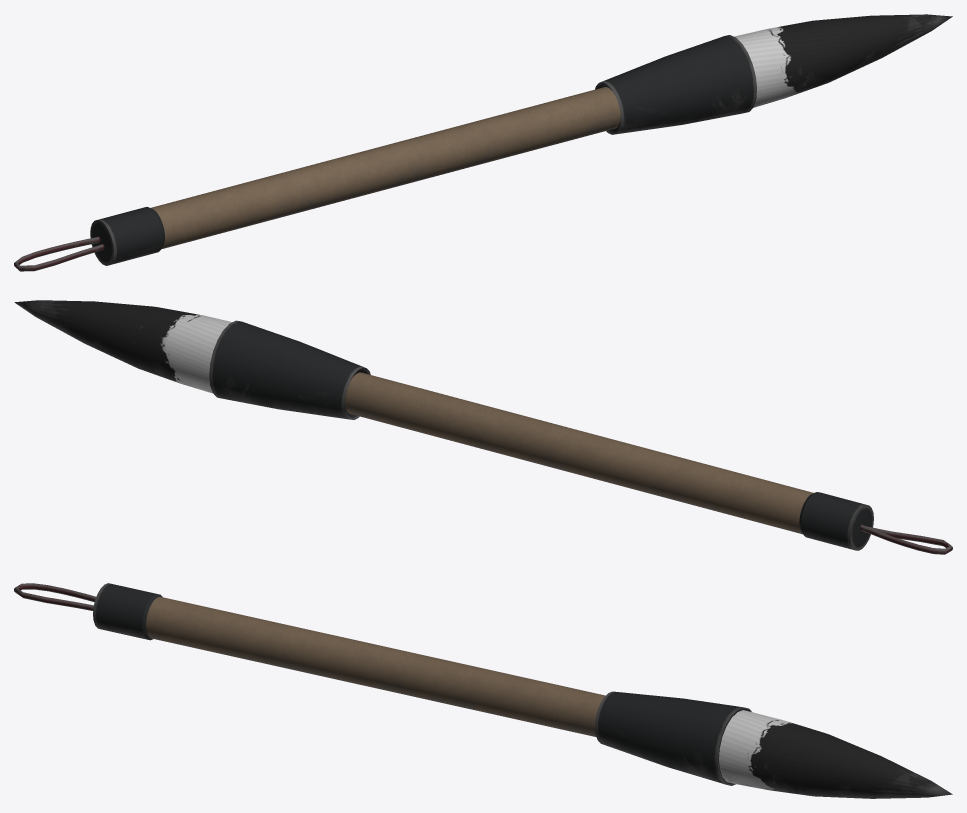
Rendered from library_loom_brush.fbx.
The picture shows the model from 3 angles, top to bottom: view 1: azimuth 30°, elevation 25°; view 2: azimuth 150°, elevation 25°; view 3: azimuth 330°, elevation 25°; orthographic projection.
Visible parts, largest first — view 1: brush.001_lo; view 2: brush.001_lo; view 3: brush.001_lo.
Boxes of the visible parts, x1,y1,x2,y2 form: brush.001_lo: [14, 14, 952, 271]; brush.001_lo: [14, 300, 952, 554]; brush.001_lo: [14, 583, 952, 798].
Bounding box in the file's own units: 31.73 × 2.36 × 2.36.
